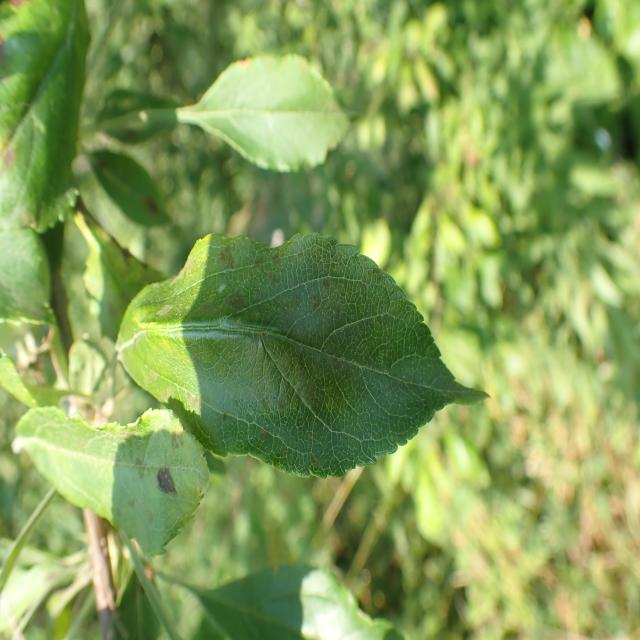scab: (206, 241, 424, 432), (99, 415, 202, 554)
